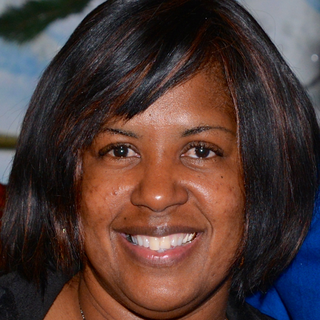eye: (173, 138, 228, 168), (95, 140, 145, 166)
